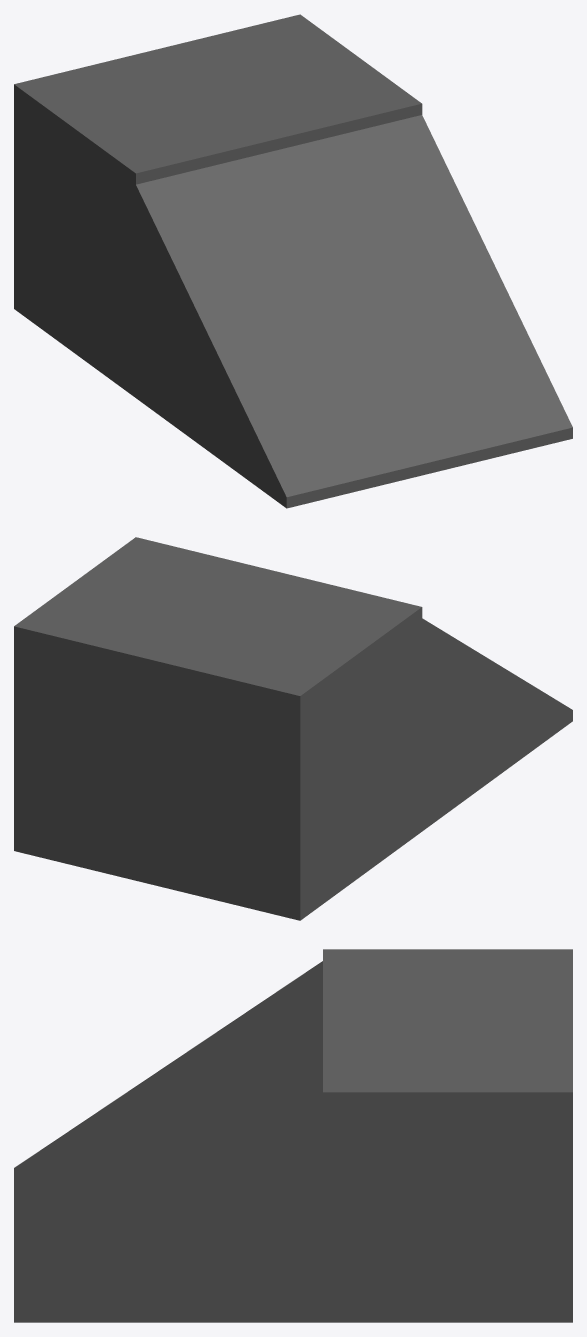
Rendered from SW_ENV_StationStair_Long_Platform_Base_FF_Collision.fbx.
3 renders of one model, top to bottom at view 1: azimuth 30°, elevation 25°; view 2: azimuth 150°, elevation 25°; view 3: azimuth 270°, elevation 25°, orthographic. The views are drawn at different scales.
Parts seen in each view (by area): view 1: SW_ENV_StationStair_Long_Platform_Base_FF_Collision; view 2: SW_ENV_StationStair_Long_Platform_Base_FF_Collision; view 3: SW_ENV_StationStair_Long_Platform_Base_FF_Collision.
Boxes of the visible parts, x1,y1,x2,y2 form: SW_ENV_StationStair_Long_Platform_Base_FF_Collision: [14, 14, 572, 508]; SW_ENV_StationStair_Long_Platform_Base_FF_Collision: [14, 537, 572, 920]; SW_ENV_StationStair_Long_Platform_Base_FF_Collision: [14, 949, 572, 1322].
Bounding box in the file's own units: 400 × 300 × 660.
